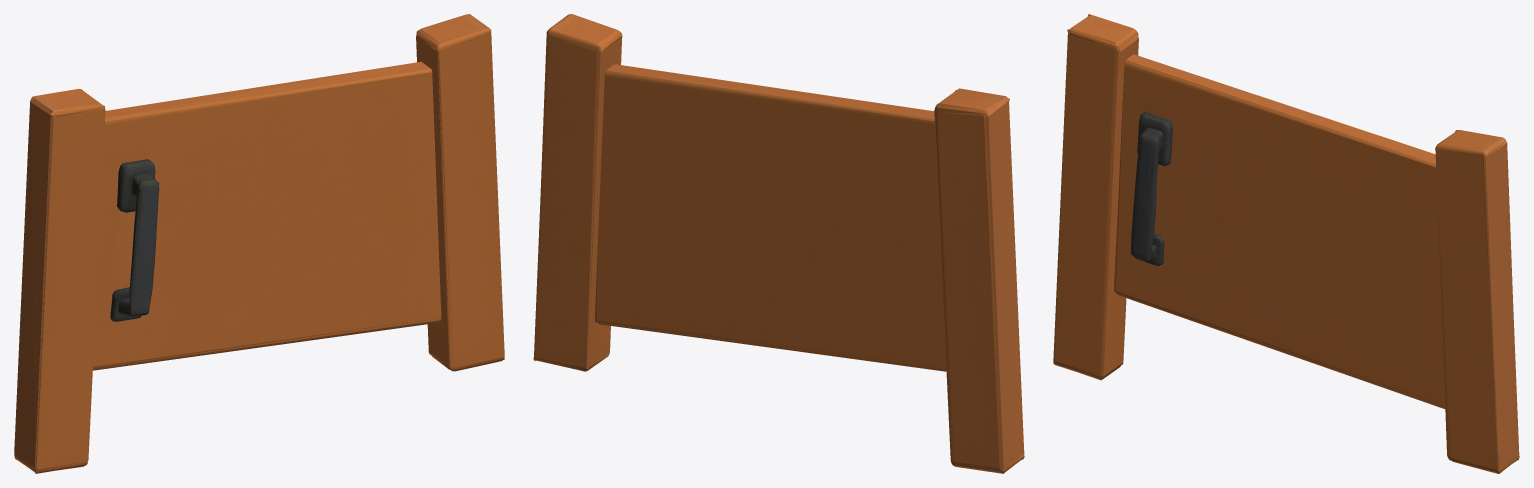
The model's file is gate.glb.
3 renders of one model, left to right at view 1: azimuth 30°, elevation 25°; view 2: azimuth 150°, elevation 25°; view 3: azimuth 330°, elevation 25°, orthographic. The views are drawn at different scales.
Size of the model in its own units: 2.7 by 2 by 0.3.
Materials: 1 (1 with a texture image).
